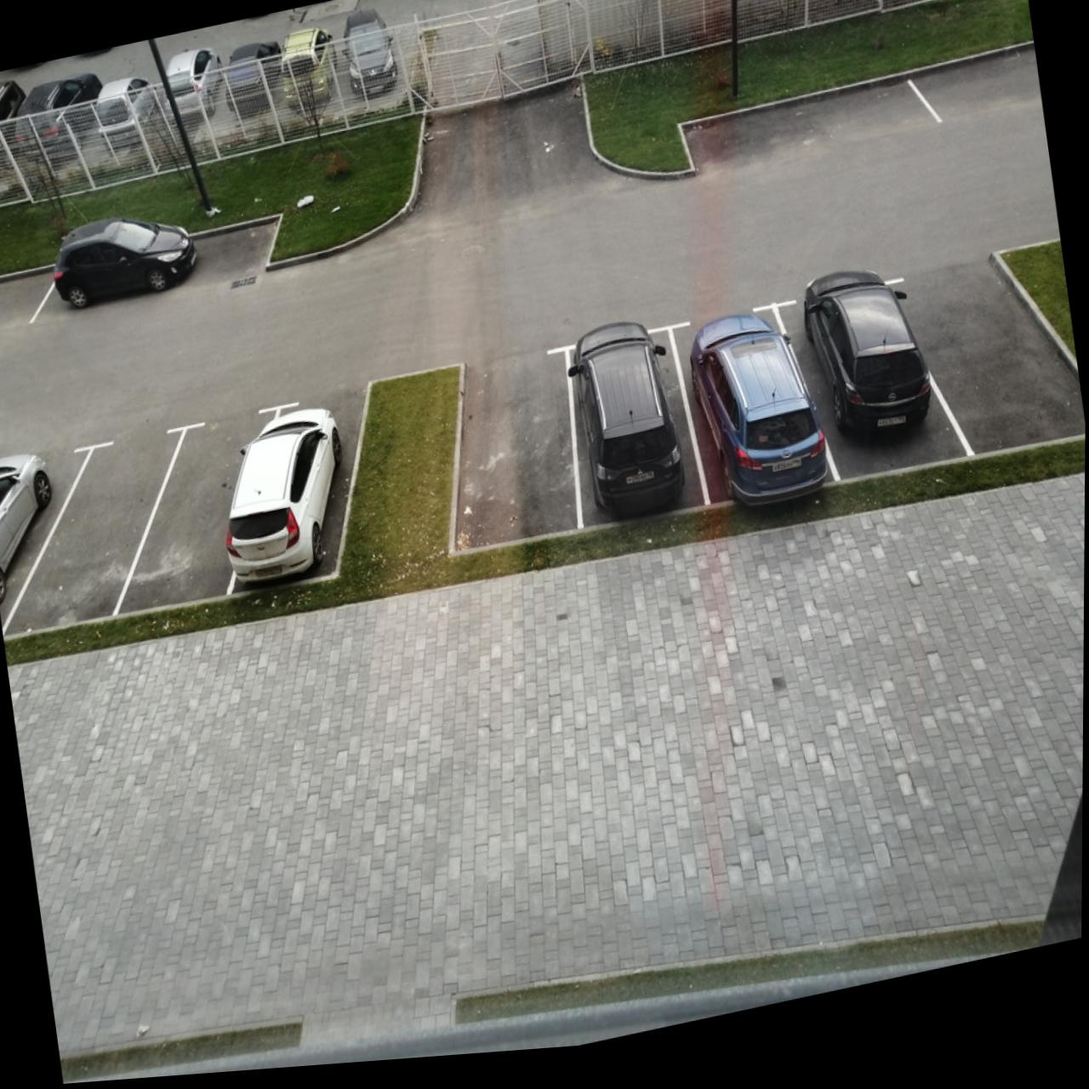cars: (229, 386, 380, 595), (44, 197, 279, 329), (803, 268, 931, 504), (561, 322, 691, 547), (683, 296, 810, 521)
empty: (122, 394, 284, 634), (16, 425, 177, 662), (923, 237, 1066, 476), (445, 333, 582, 549), (698, 73, 901, 180)
